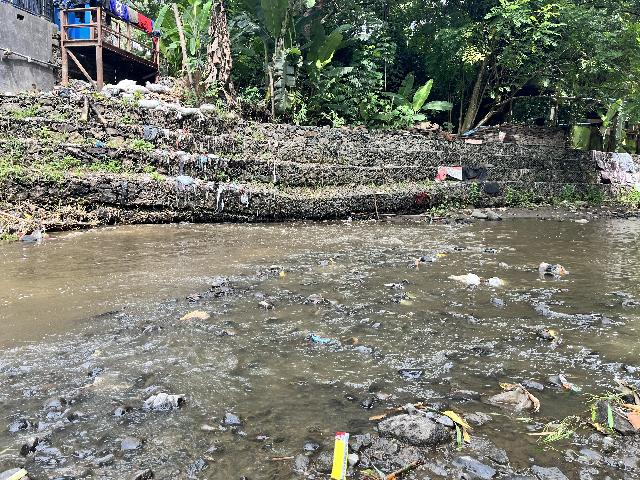Sampah Anorganik: (488, 383, 540, 414), (545, 365, 587, 400), (332, 420, 350, 480), (530, 259, 571, 280), (443, 271, 479, 285), (305, 332, 331, 345), (489, 276, 510, 288), (383, 282, 403, 289), (434, 253, 449, 260), (349, 269, 363, 275)
Sampah Organik: (367, 404, 481, 446), (594, 365, 640, 435), (524, 419, 580, 443), (0, 461, 30, 480), (70, 375, 112, 388), (175, 311, 213, 321), (397, 292, 417, 305), (545, 327, 560, 341), (341, 335, 360, 346), (185, 293, 203, 302), (268, 456, 296, 461), (314, 298, 330, 306), (413, 259, 419, 266), (330, 258, 337, 264), (281, 268, 285, 278)
